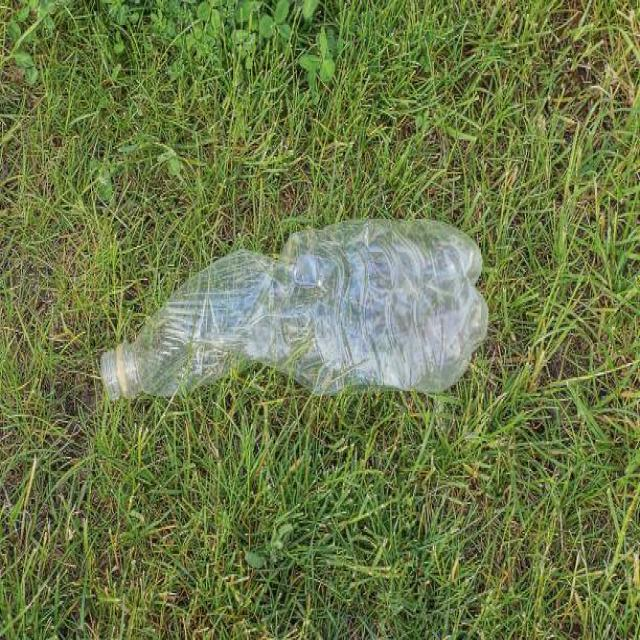plastic: (112, 226, 484, 410)
